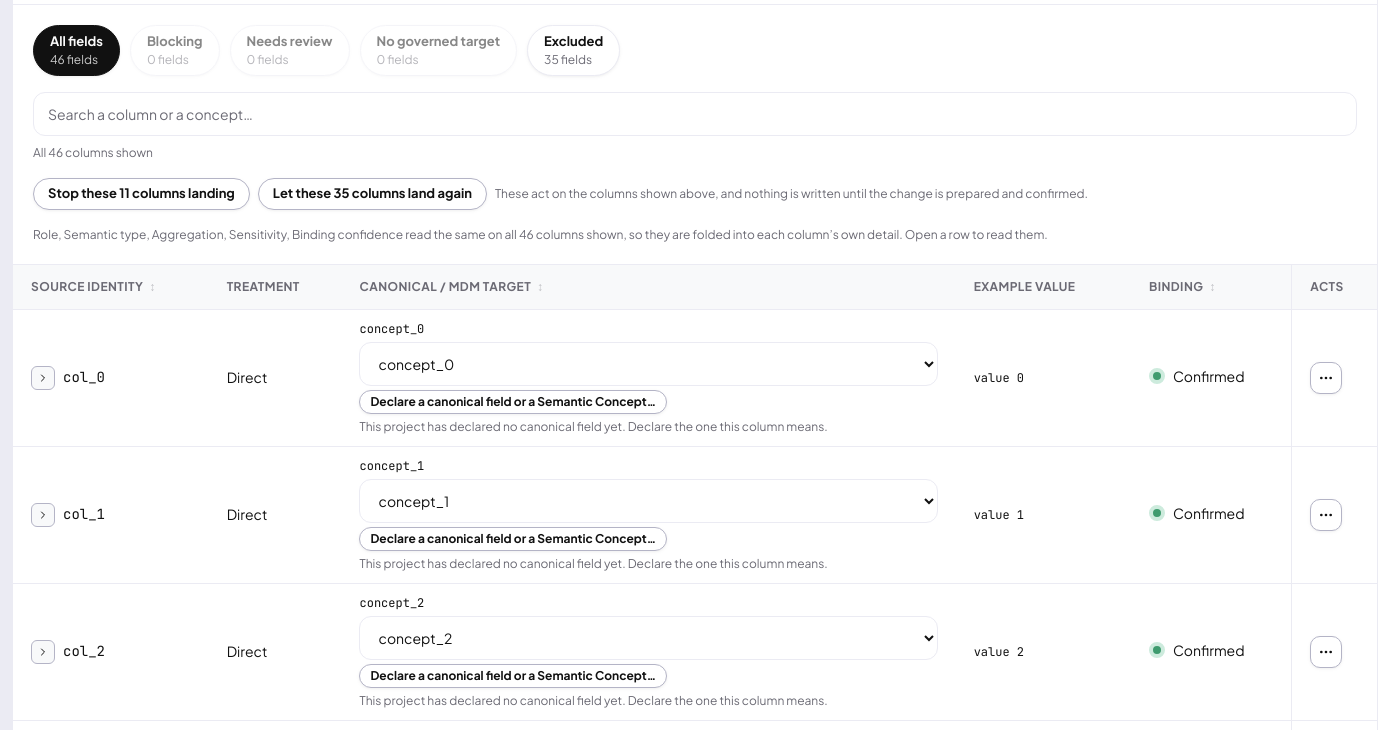
Test: Mapping tab — joining N columns and splitting one into N › refuses a join onto a concept another binding already produces
(page scrolled)
Click the button with test id "acts-col_0".
click(1326, 378)  # box [1310, 362, 1342, 394]
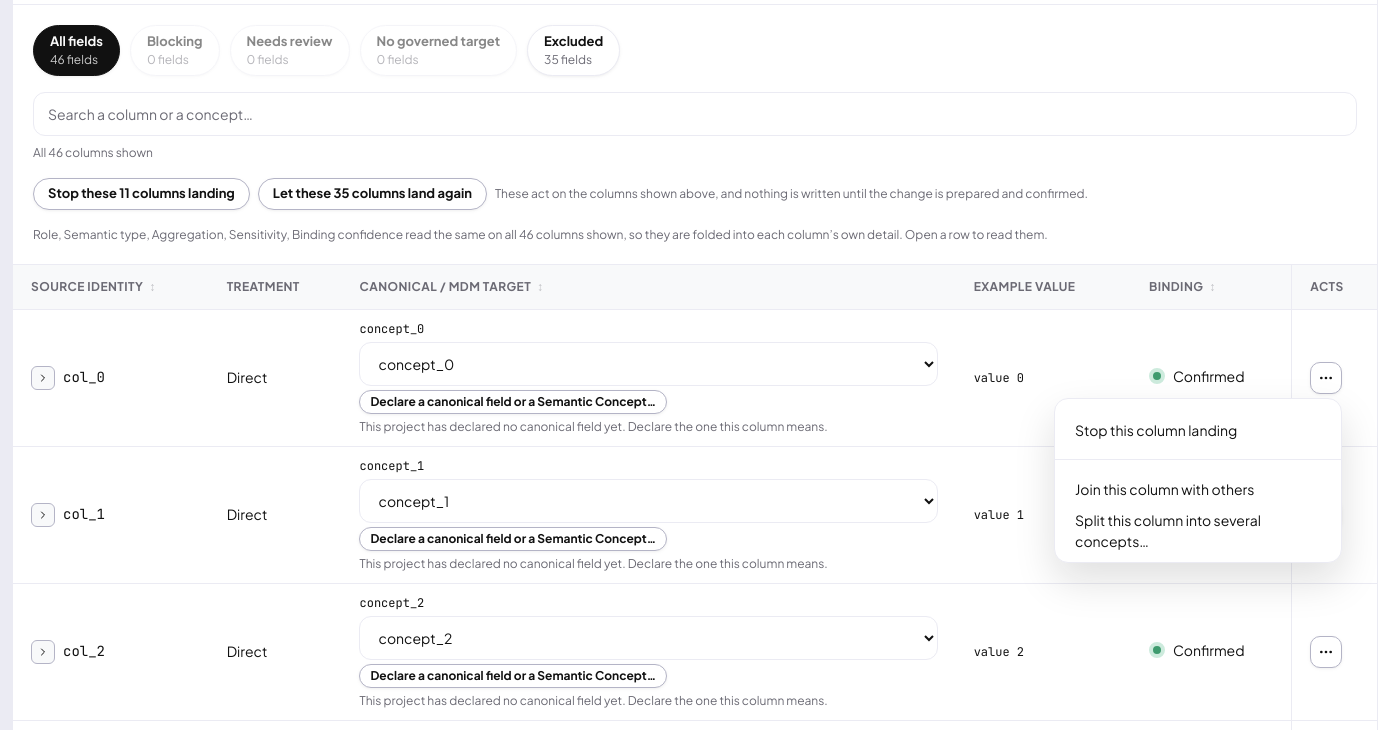
Click the menu item with test id "join-pick-col_0".
click(1165, 488)  # box [1075, 480, 1254, 498]
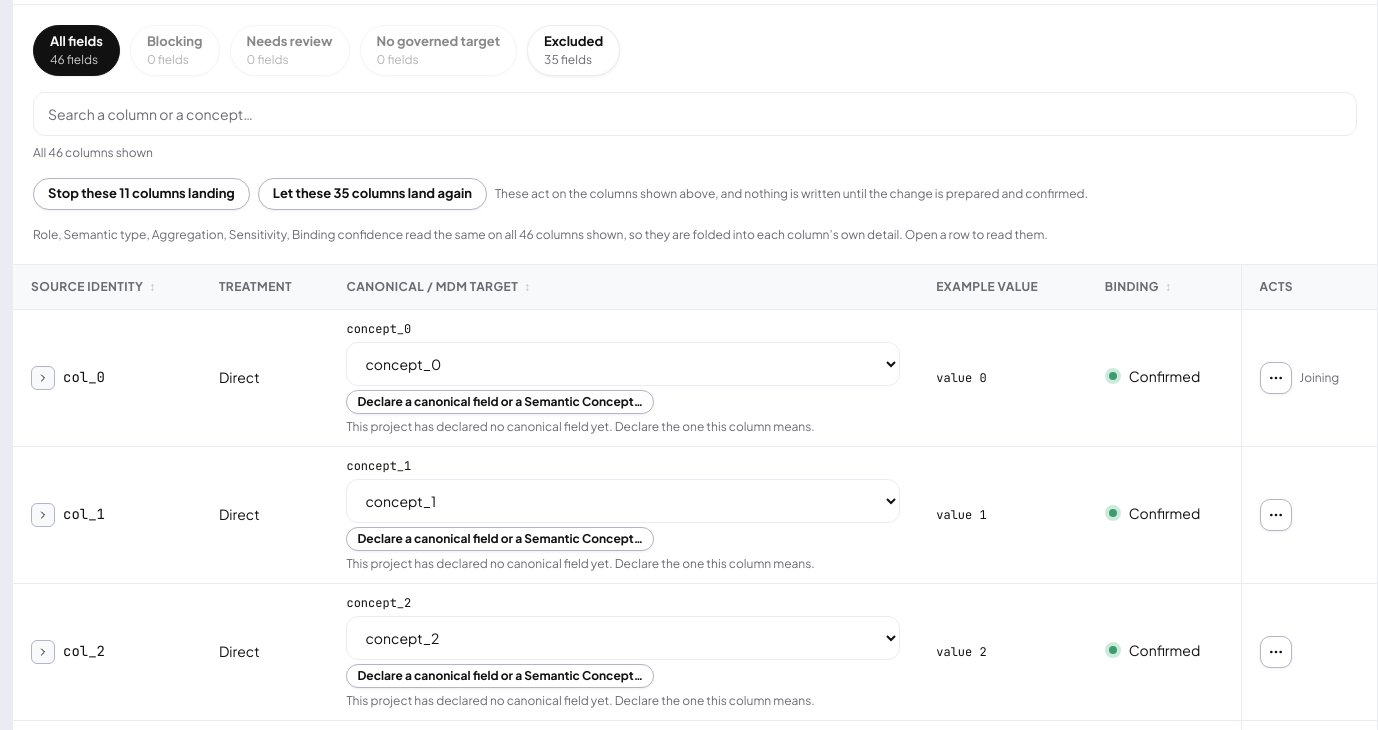
Click the button named "What to do with col_1".
click(1276, 514)  # box [1260, 498, 1292, 530]
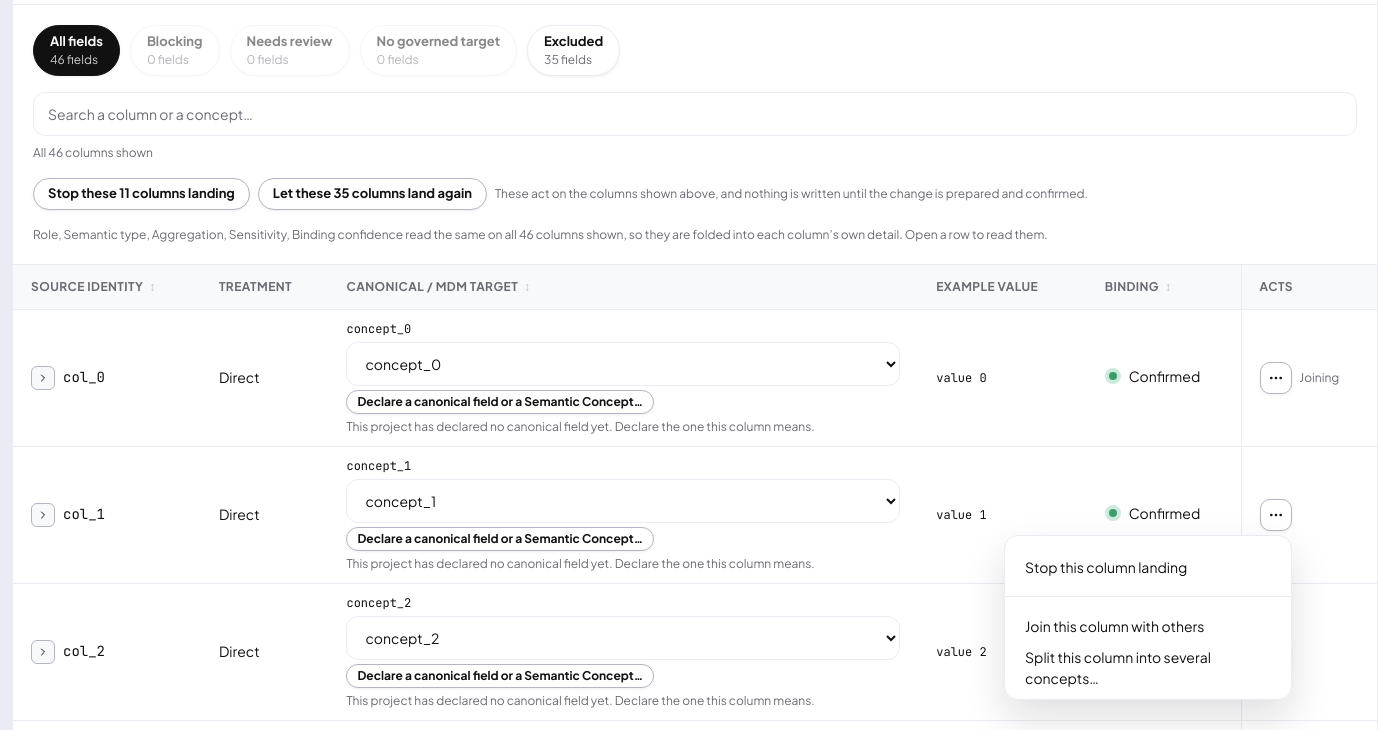
Click the menu item "Join this column with others".
click(1115, 626)  # box [1025, 616, 1204, 634]
(page scrolled)
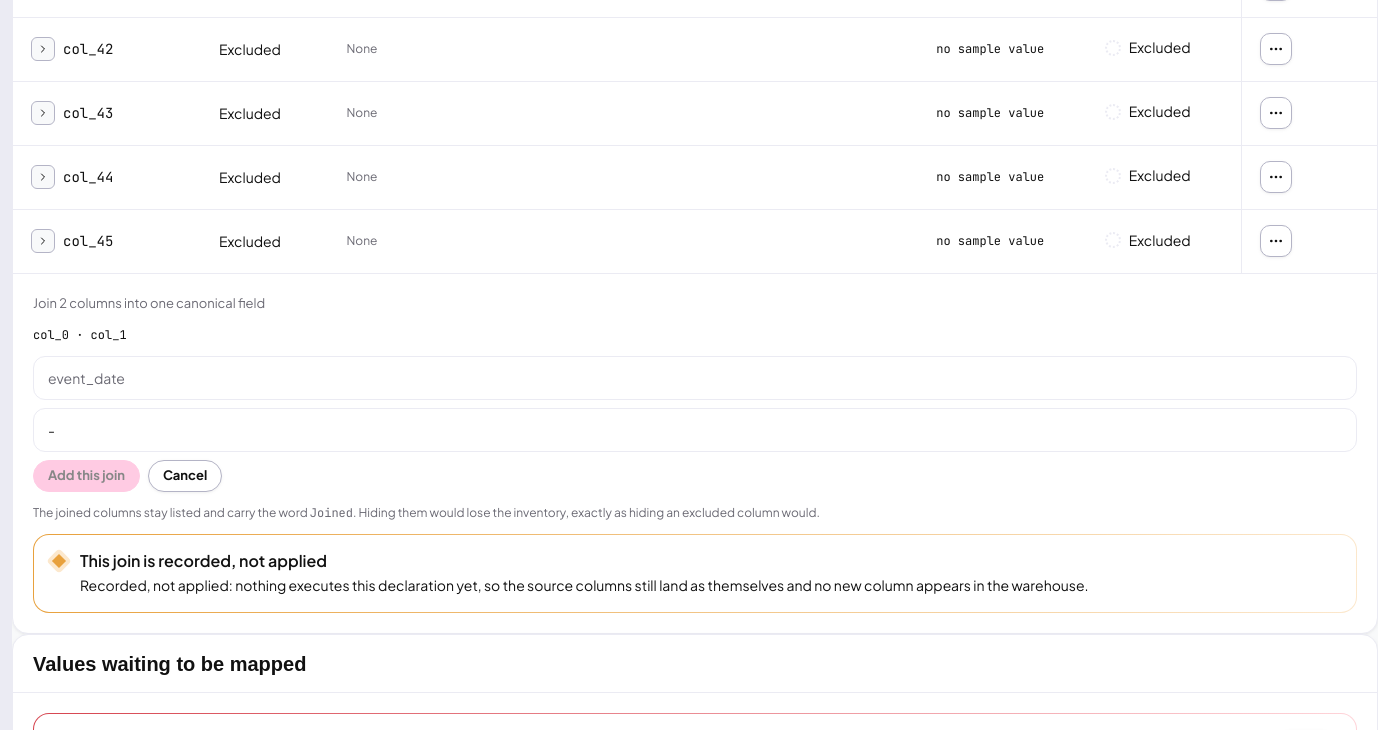
Type "concept_2" into the field with test id "join-target".
click(695, 378); type("concept_2")  # box [33, 356, 1357, 400]
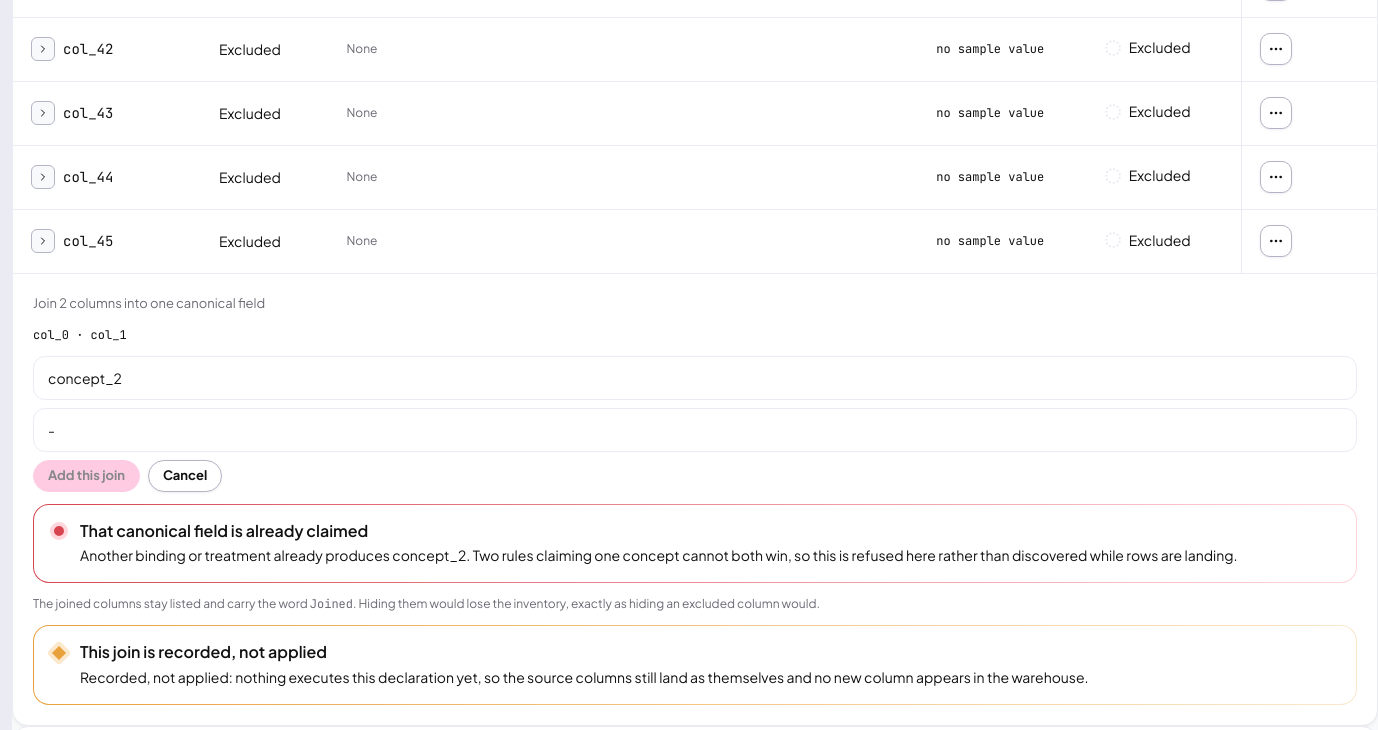
Expected: the button with test id "join-add" is disabled, [33, 460, 140, 492]
Expected: the message with test id "join-target-claimed" is shown, [33, 504, 1357, 583]
